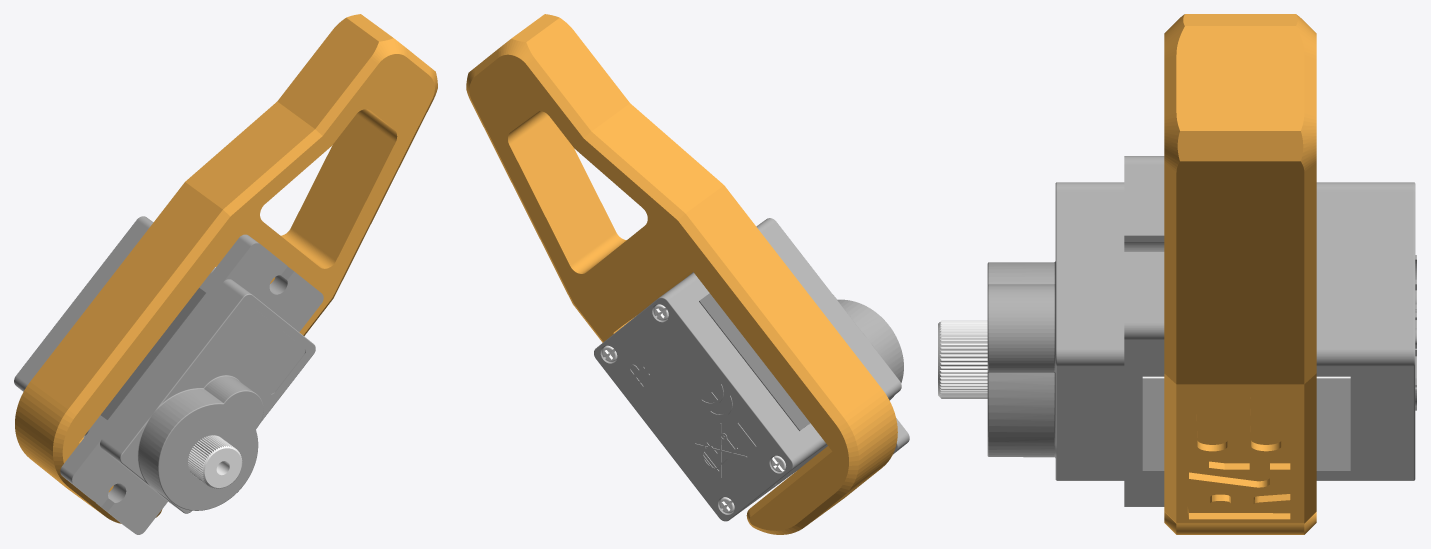
File: right_rear_foot.glb
The picture shows the model from 3 angles, left to right: view 1: azimuth 30°, elevation 25°; view 2: azimuth 150°, elevation 25°; view 3: azimuth 270°, elevation 25°; orthographic projection. The views are drawn at different scales.
Visible parts, largest first — view 1: foot_joint_r4, sg90_top_6, sg90_bottom_6, sg90_pin_6, sg90_side_left_6; view 2: foot_joint_r4, sg90_bottom_6, sg90_top_6, sg90_side_left_6, sg90_body_6; view 3: foot_joint_r4, sg90_top_6, sg90_bottom_6, sg90_side_right_6, sg90_pin_6, sg90_body_6.
Boxes of the visible parts, x1,y1,x2,y2 form: foot_joint_r4: (15, 14, 437, 523); sg90_top_6: (60, 234, 323, 534); sg90_bottom_6: (14, 216, 153, 391); sg90_pin_6: (188, 435, 242, 488); sg90_side_left_6: (101, 288, 205, 419); foot_joint_r4: (466, 14, 897, 534); sg90_bottom_6: (594, 278, 819, 521); sg90_top_6: (687, 218, 909, 454); sg90_side_left_6: (699, 293, 810, 430); sg90_body_6: (685, 272, 827, 498); foot_joint_r4: (1164, 14, 1316, 534); sg90_top_6: (987, 156, 1164, 506); sg90_bottom_6: (1329, 182, 1416, 480); sg90_side_right_6: (1142, 376, 1350, 470); sg90_pin_6: (938, 320, 987, 398); sg90_body_6: (1316, 182, 1328, 480).
Bounding box in the file's own units: 0.329 × 0.343 × 0.2097.
